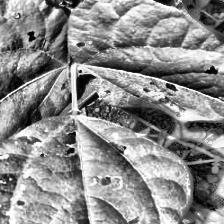ALS: (0, 112, 192, 224), (66, 0, 224, 129), (0, 0, 70, 172)
